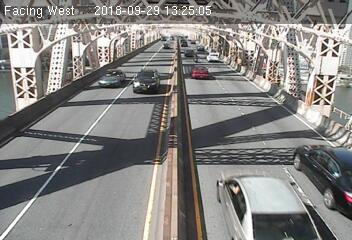car: (205, 174, 329, 240), (291, 142, 352, 216), (129, 63, 164, 99), (97, 68, 124, 88), (188, 66, 214, 81), (206, 50, 223, 62), (181, 48, 196, 60), (196, 44, 207, 53), (160, 42, 170, 50)
